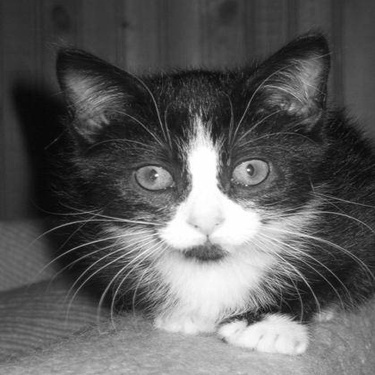cat: (49, 25, 369, 354)
